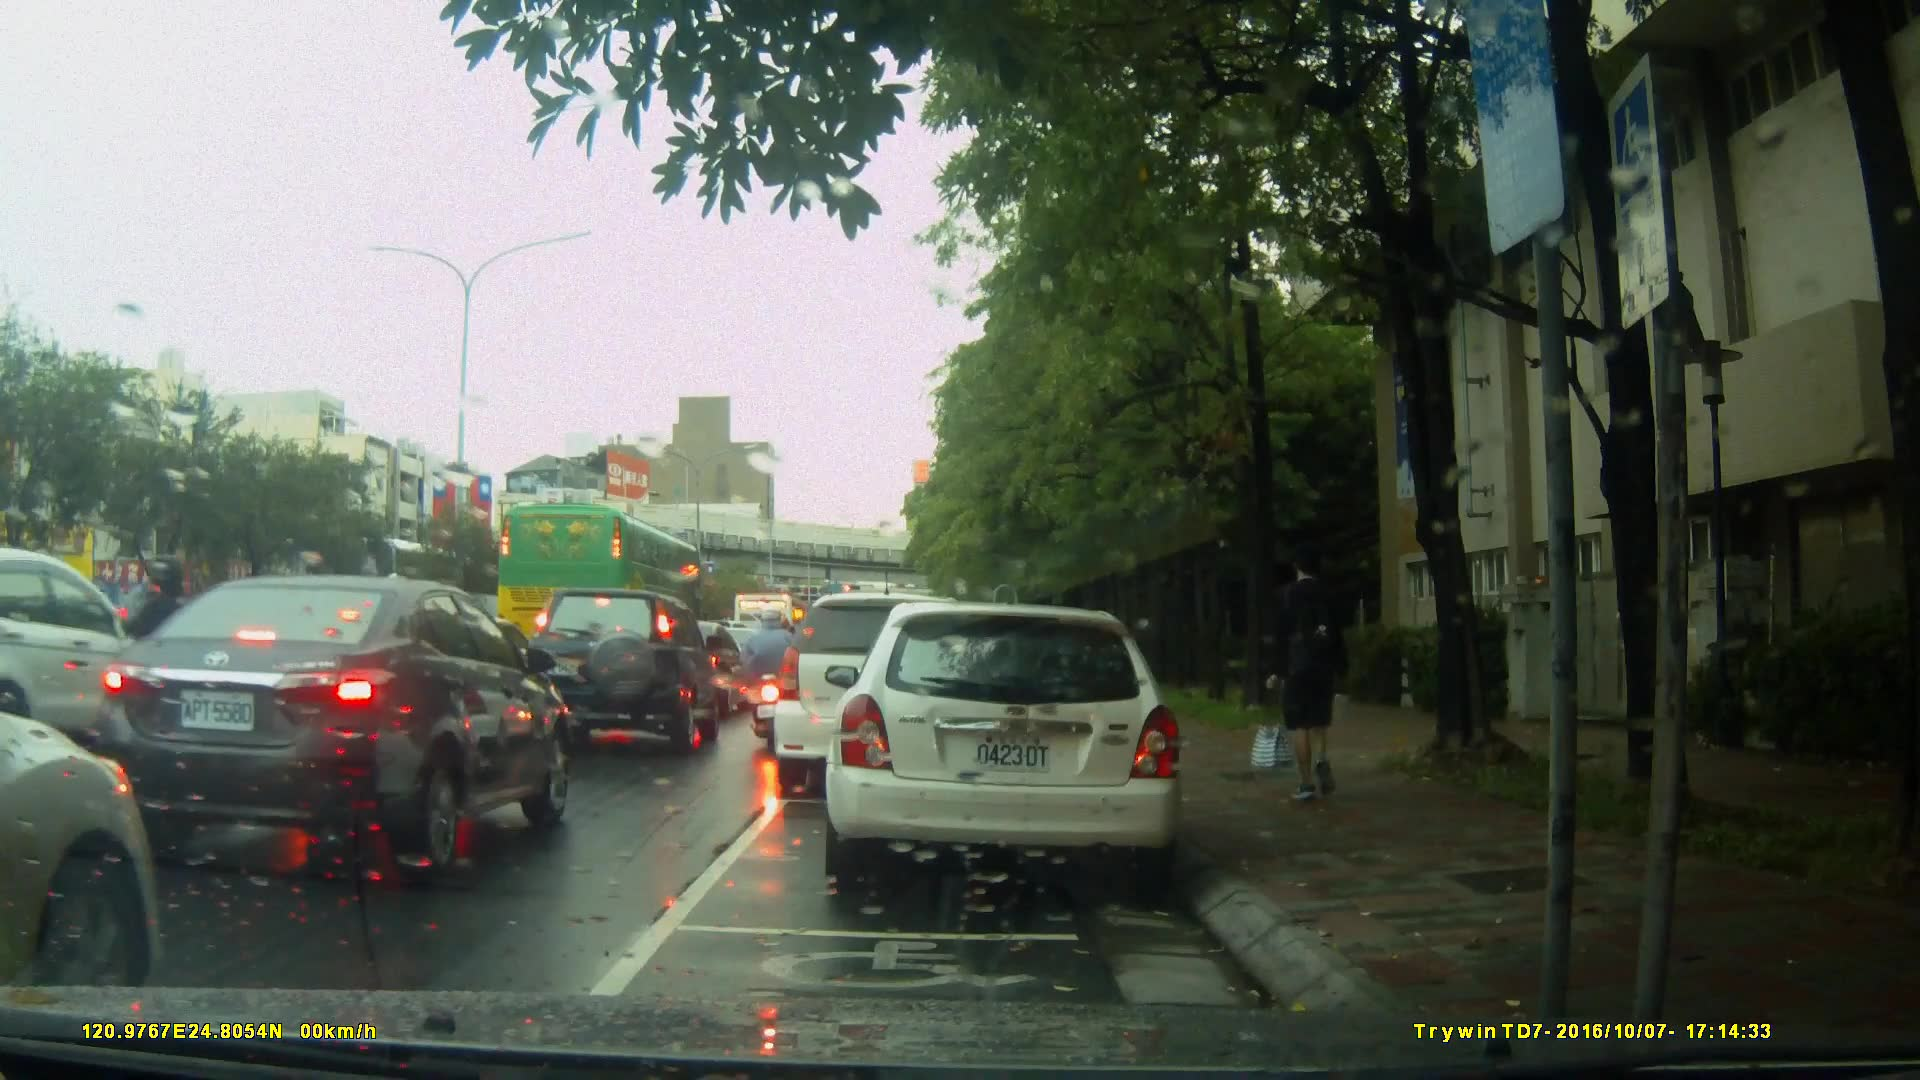pedestrian: (1250, 549, 1365, 814)
rider: (115, 554, 214, 769), (742, 604, 807, 743)
vehicle: (95, 571, 574, 885), (831, 592, 1196, 897), (770, 592, 999, 799), (1, 552, 210, 745), (526, 584, 723, 753), (493, 500, 707, 654)
